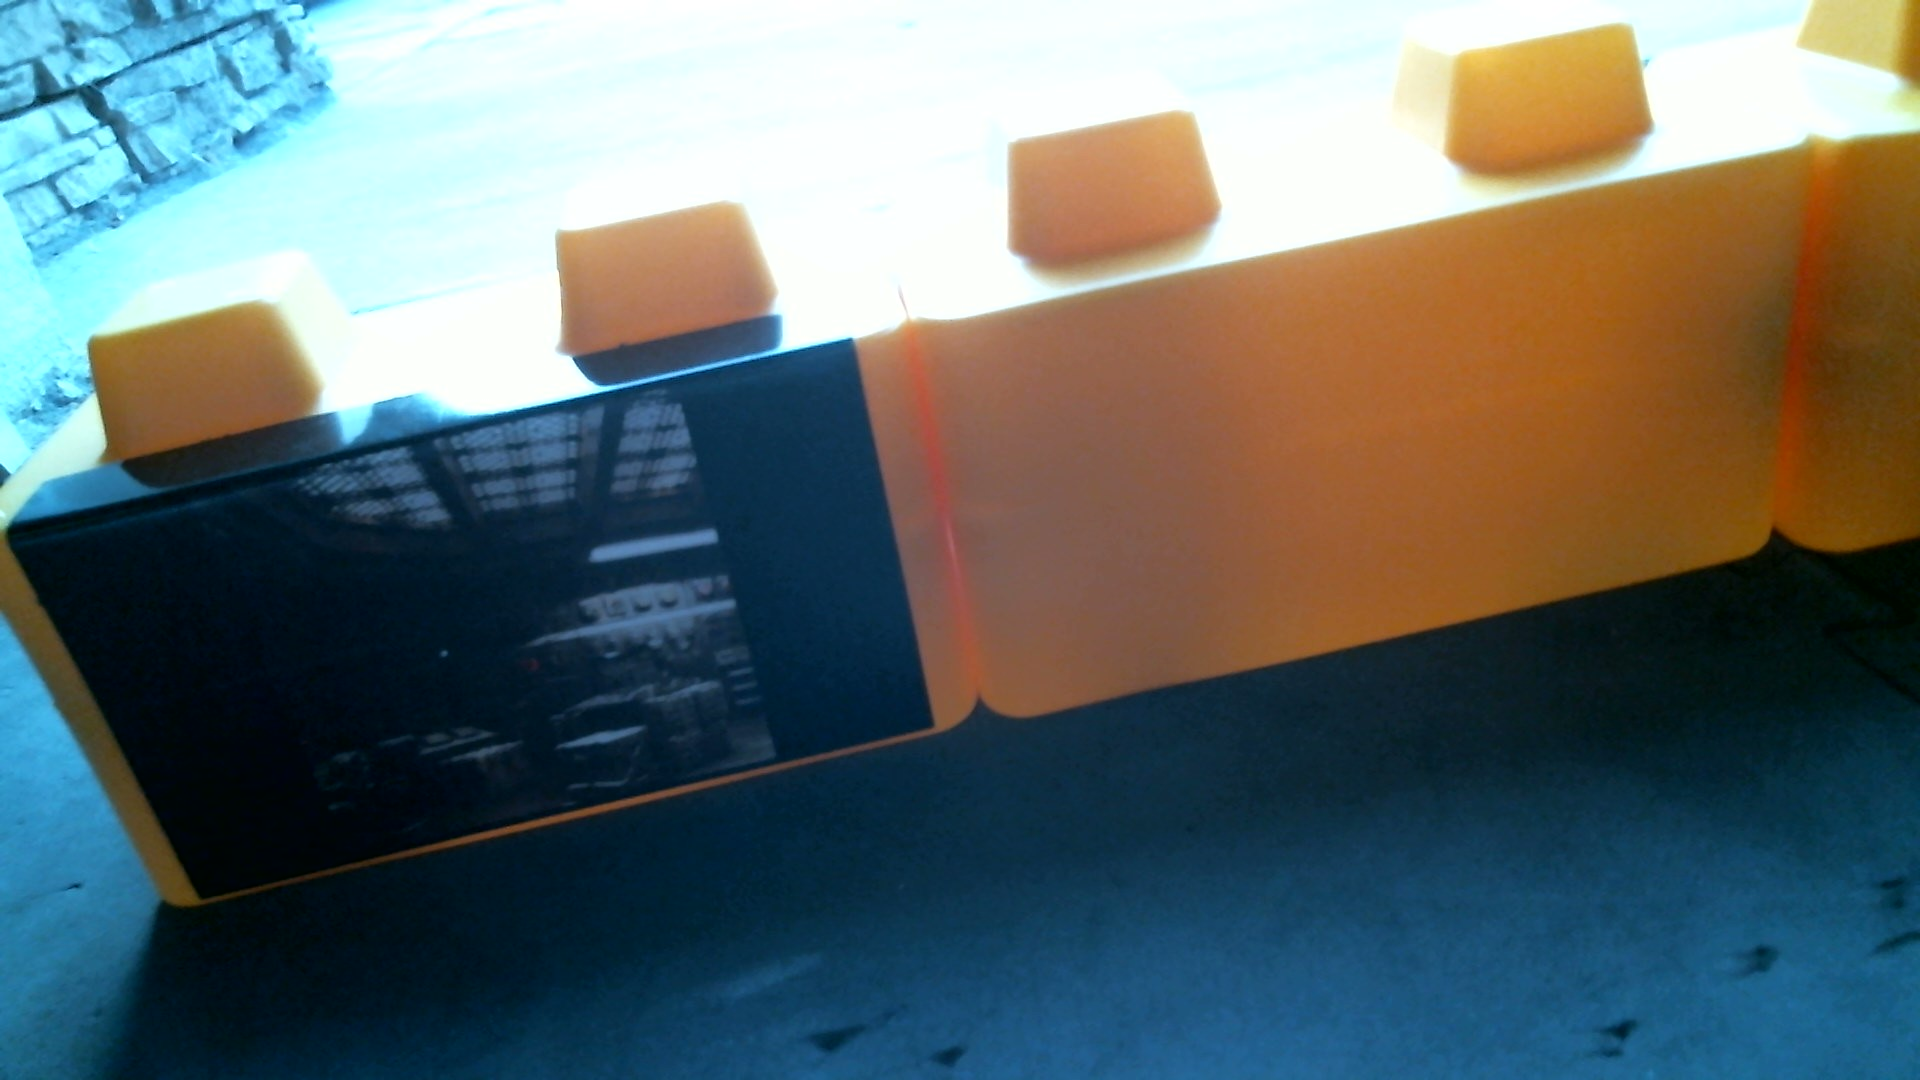left: (7, 1, 1895, 963)
